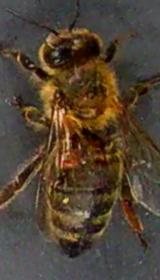varroa_mite: (44, 135, 84, 174)
